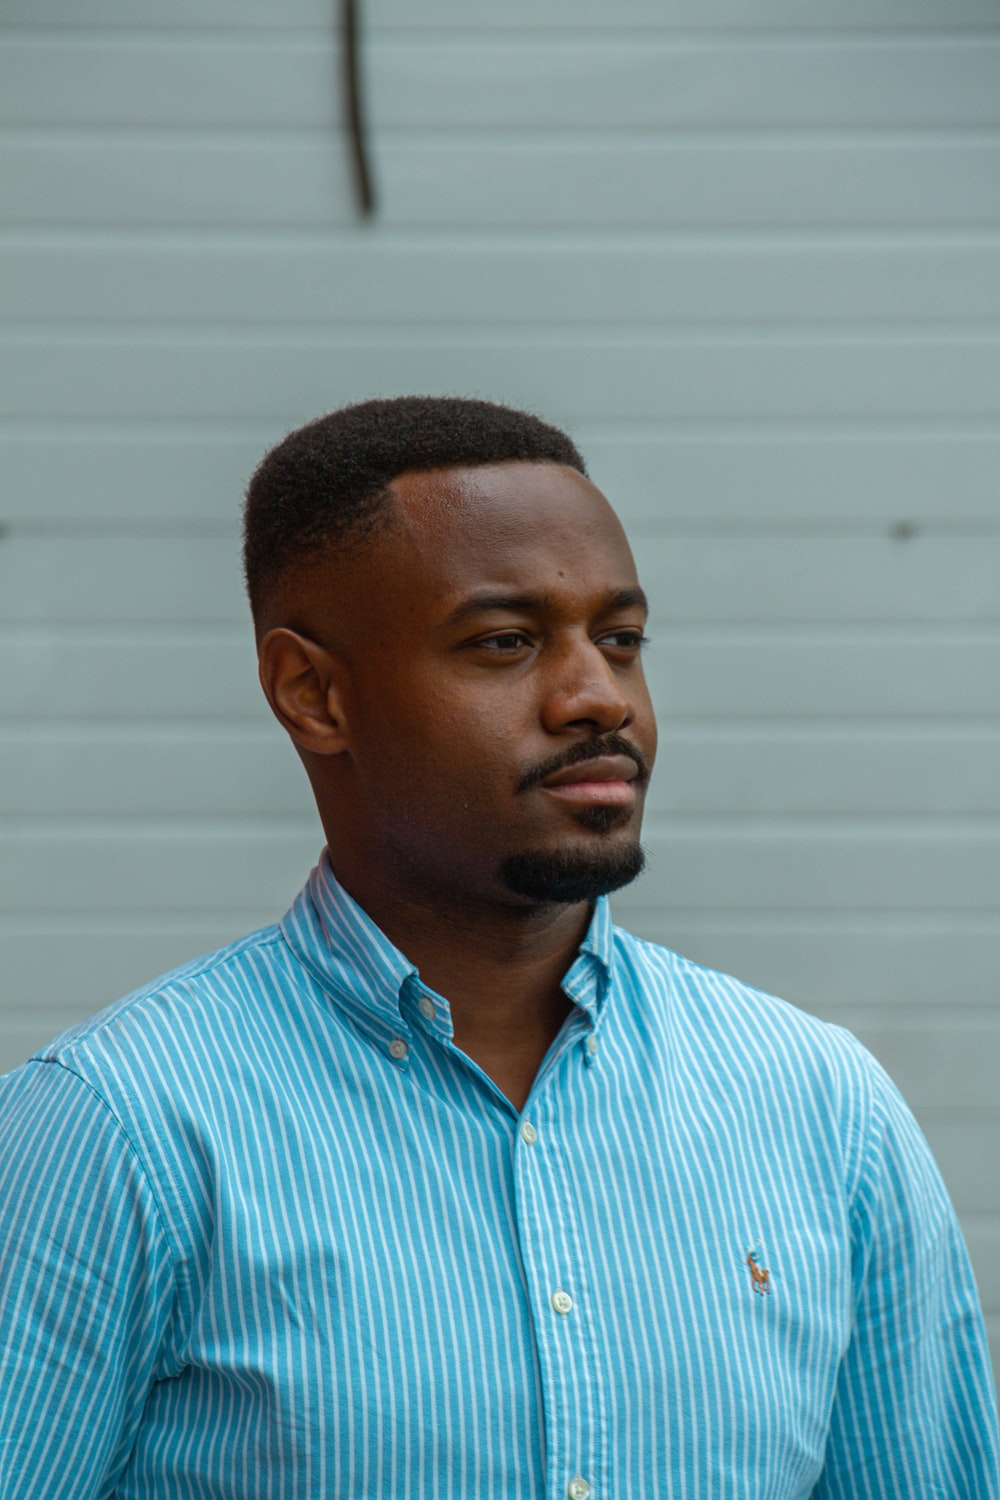bare: (322, 689, 672, 897)
